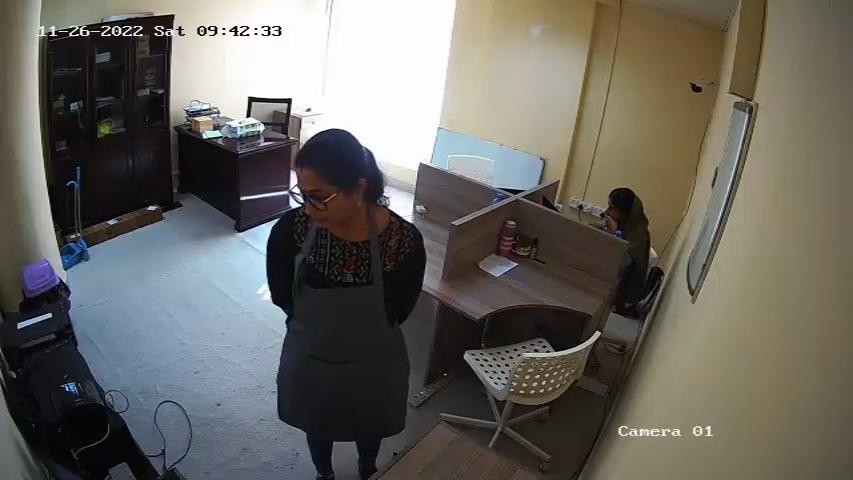apron: (286, 229, 395, 427)
